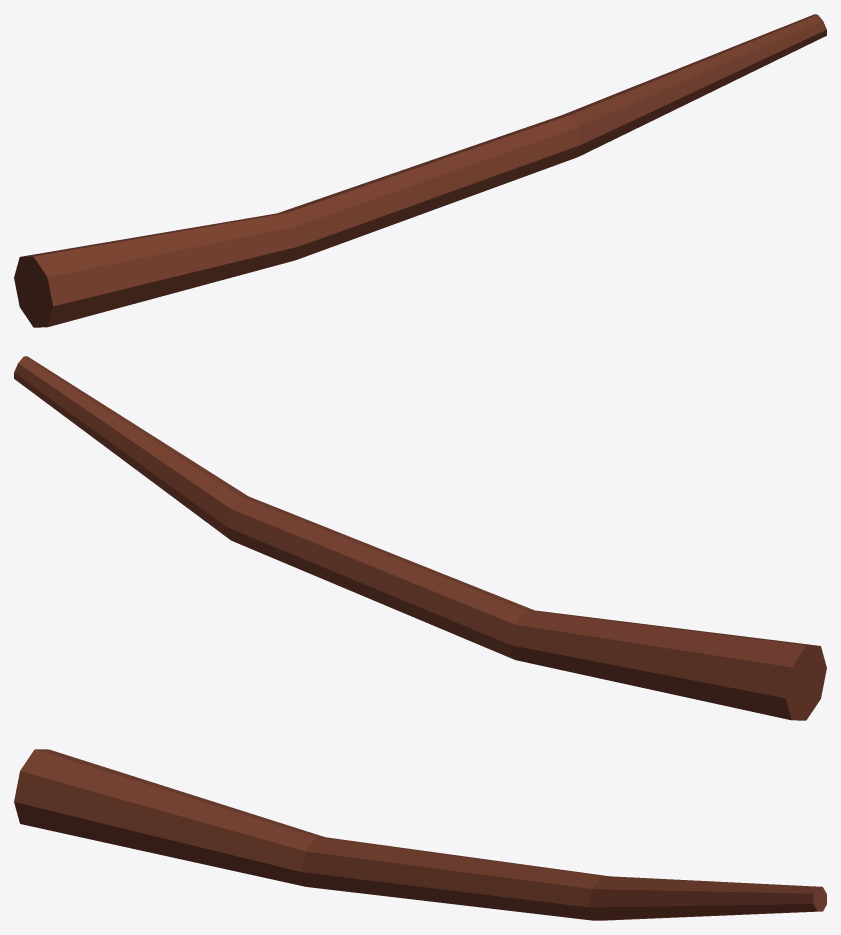
Rendered from pine_branch_type_2_LOD0.fbx.
3 views of the same model, one above another, from view 1: azimuth 30°, elevation 25°; view 2: azimuth 150°, elevation 25°; view 3: azimuth 330°, elevation 25° (orthographic). The views are drawn at different scales.
Parts seen in each view (by area): view 1: Circle.030; view 2: Circle.030; view 3: Circle.030.
Part boxes in pixels (x1=…): Circle.030: x1=14, y1=14, x2=826, y2=327; Circle.030: x1=14, y1=356, x2=826, y2=720; Circle.030: x1=14, y1=749, x2=826, y2=920.
Bounding box in the file's own units: 286 × 51.31 × 30.86.
